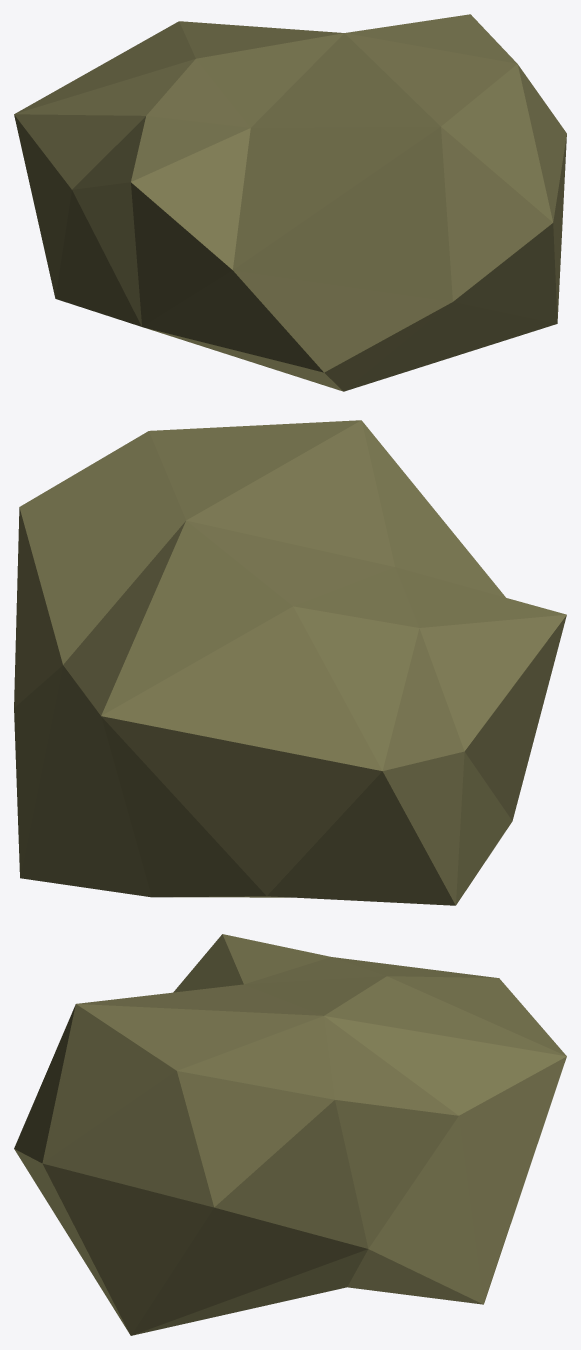
File: Stein_005.gltf
The picture shows the model from 3 angles, top to bottom: view 1: azimuth 30°, elevation 25°; view 2: azimuth 150°, elevation 25°; view 3: azimuth 270°, elevation 25°; orthographic projection. The views are drawn at different scales.
Visible parts, largest first — view 1: Stein.005-col; view 2: Stein.005-col; view 3: Stein.005-col.
Part boxes in pixels (x1=…): Stein.005-col: x1=14, y1=14, x2=566, y2=391; Stein.005-col: x1=14, y1=420, x2=566, y2=905; Stein.005-col: x1=14, y1=934, x2=566, y2=1335.
Size of the model in its own units: 2.36 by 1.54 by 2.53.
